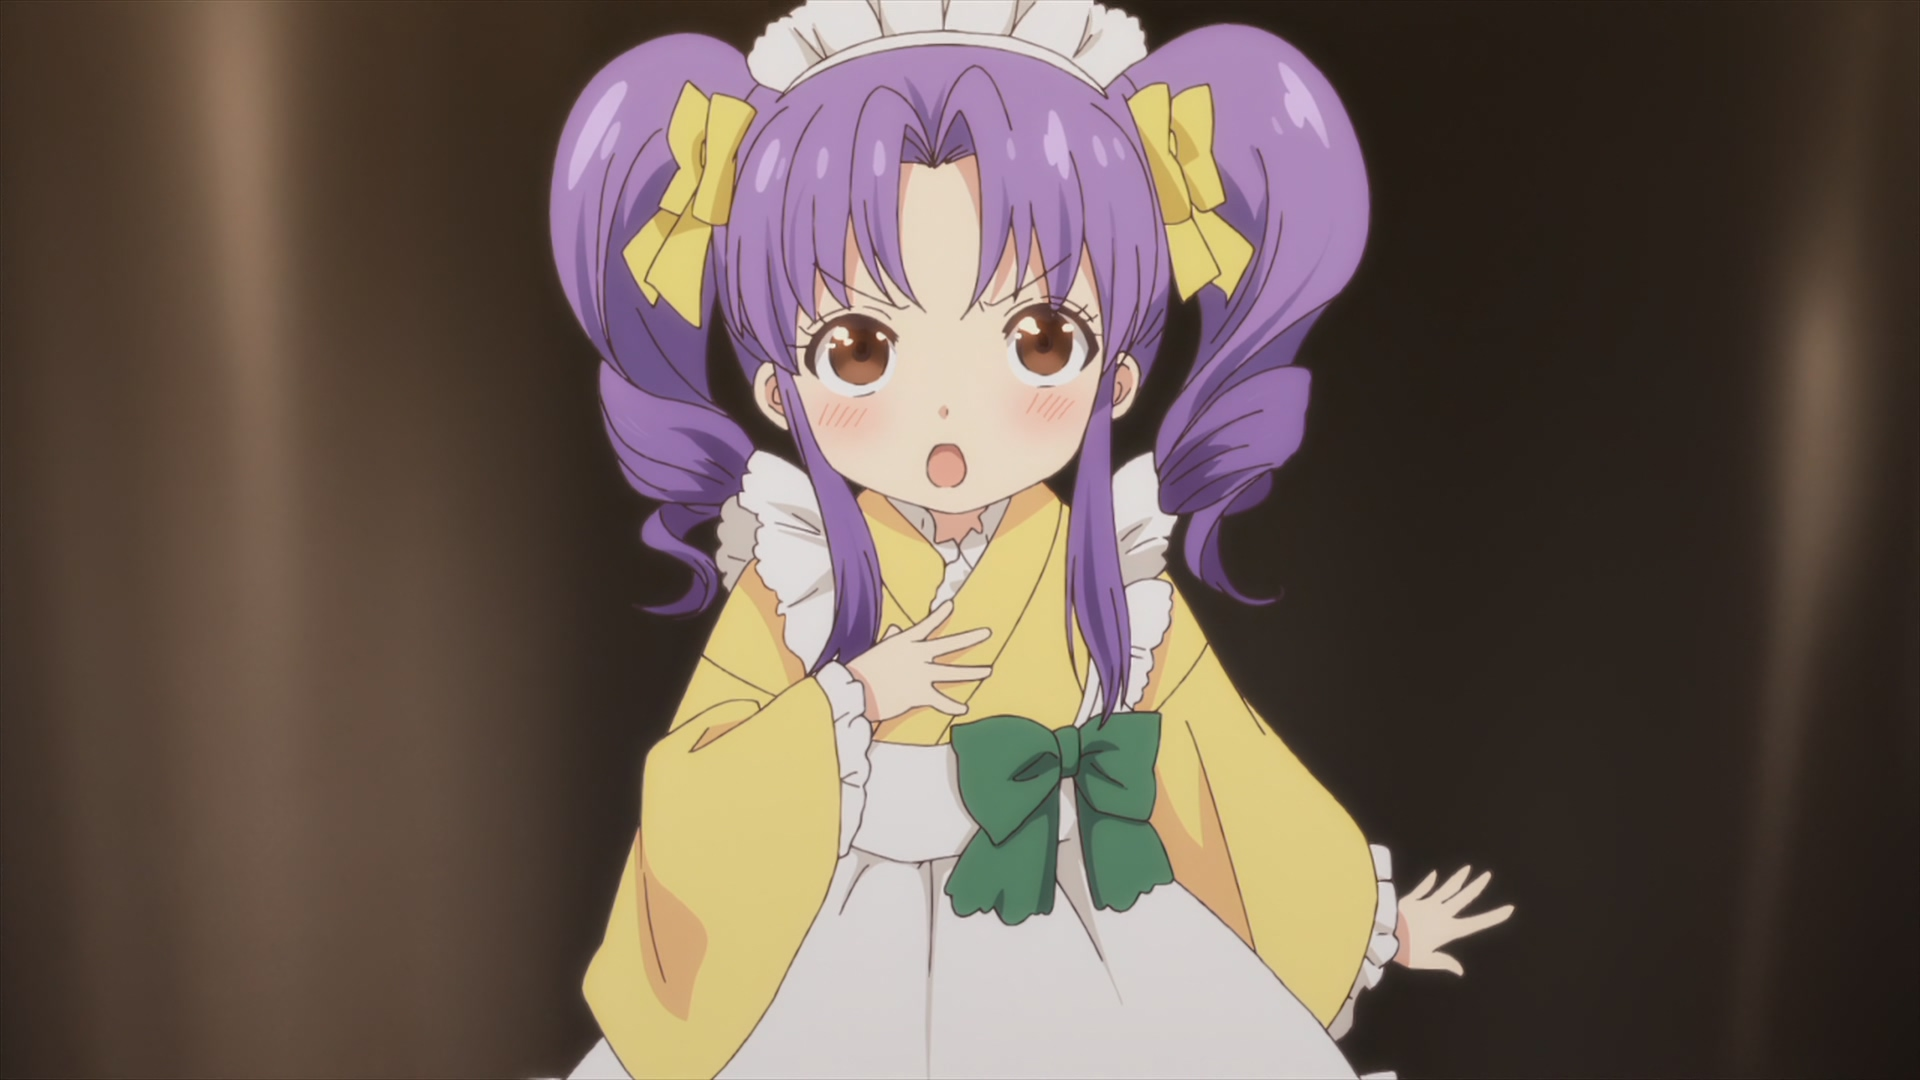阿菊: (549, 1, 1513, 1080)
